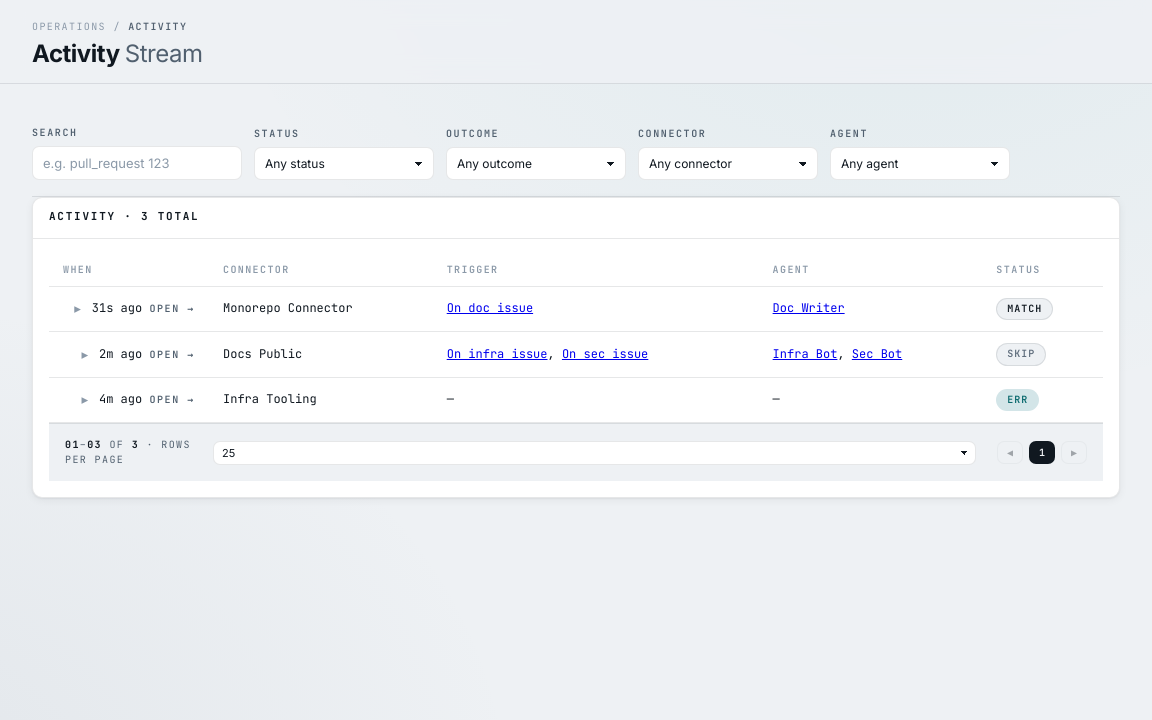
Test: Activity › filters by status via the events API
Expected: the link with aria-label "Open event e1" is shown, [49, 286, 1103, 332]
Select "Error" in the dropdown named "filter by status" at (344, 164), box [254, 147, 434, 180]
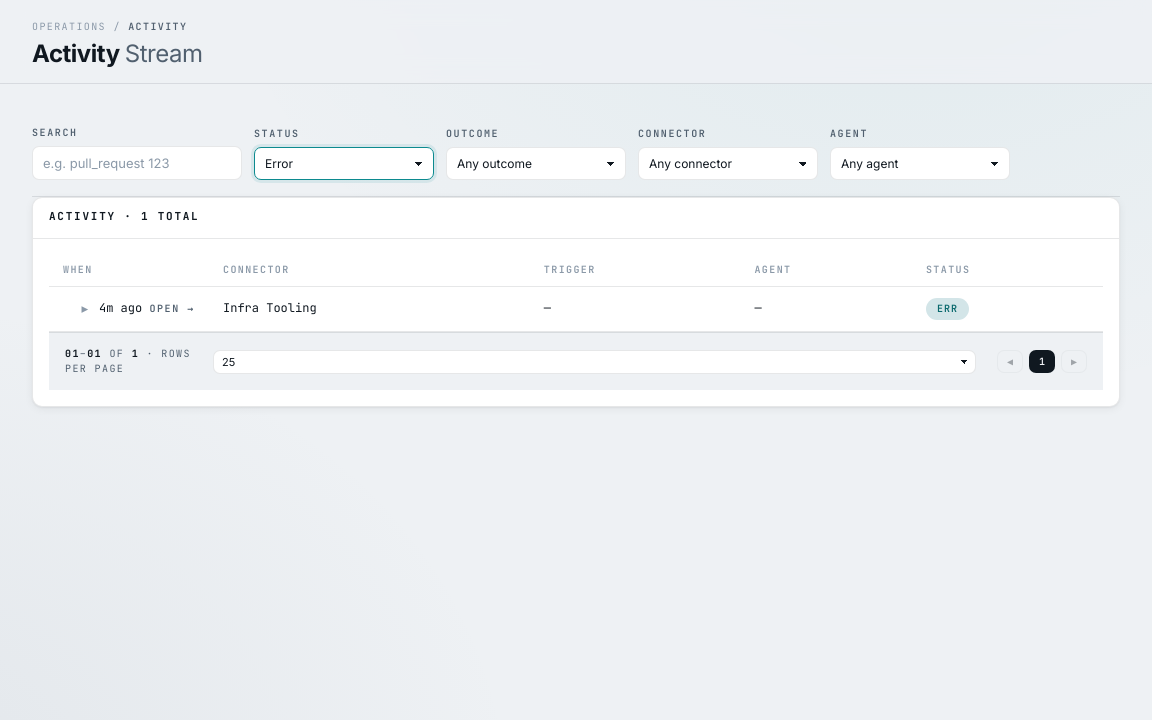
Expected: the table shows "Infra Tooling", [223, 300, 317, 316]
Expected: the link "Monorepo Connector" no longer shows "Monorepo Connector"
